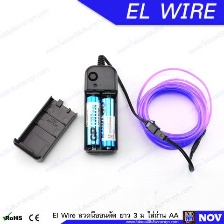battery: (100, 96, 119, 152), (84, 94, 102, 148)
